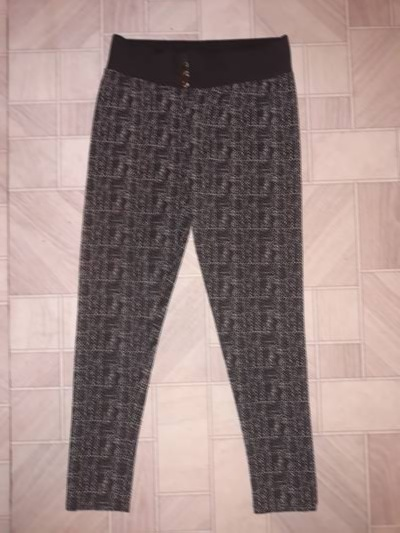Pants: (31, 16, 342, 518)
